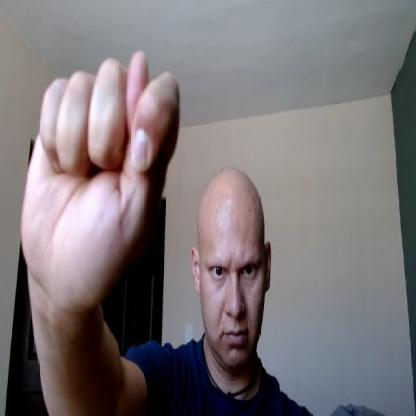T: (19, 51, 183, 303)
